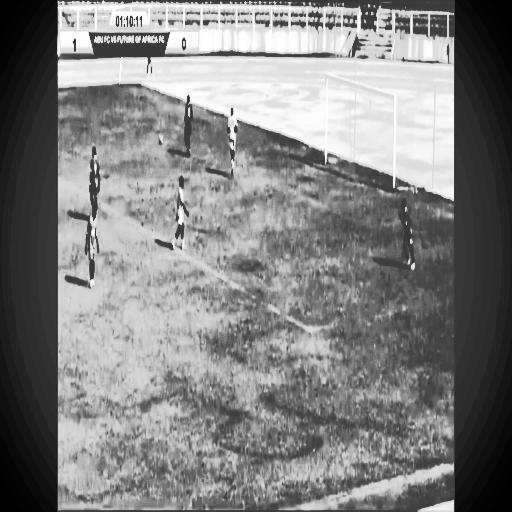ball: (156, 128, 166, 151)
keeper1: (182, 90, 193, 159)
team1: (224, 102, 242, 182), (176, 170, 190, 258)
team2: (393, 190, 419, 274), (85, 203, 101, 293), (84, 141, 102, 209)
